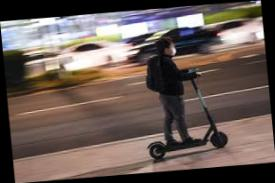nonhelmet: (135, 31, 229, 160)
